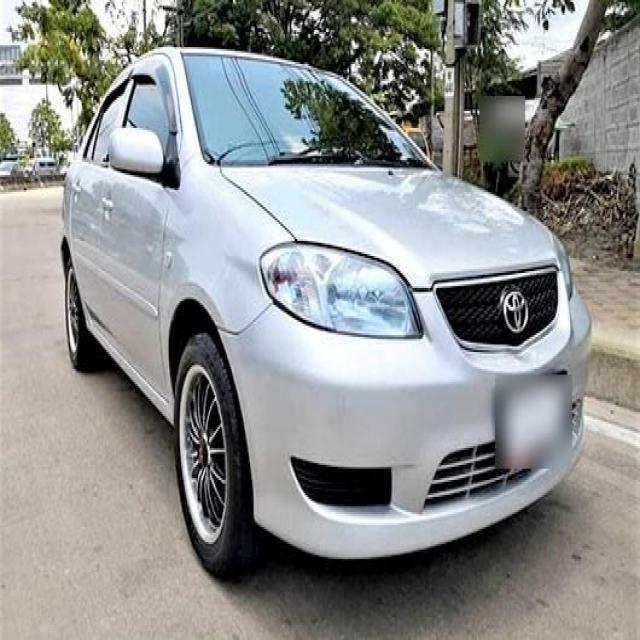back_right_door: (71, 63, 132, 337)
front_bumper: (218, 267, 594, 562)
front_glass: (181, 55, 437, 170)
front_left_light: (553, 232, 572, 297)
front_right_door: (100, 55, 182, 408)
front_right_light: (258, 241, 426, 340)
hood: (215, 166, 559, 294)
right_mirror: (108, 127, 176, 187)
wheel: (173, 333, 260, 581), (64, 256, 103, 369)
